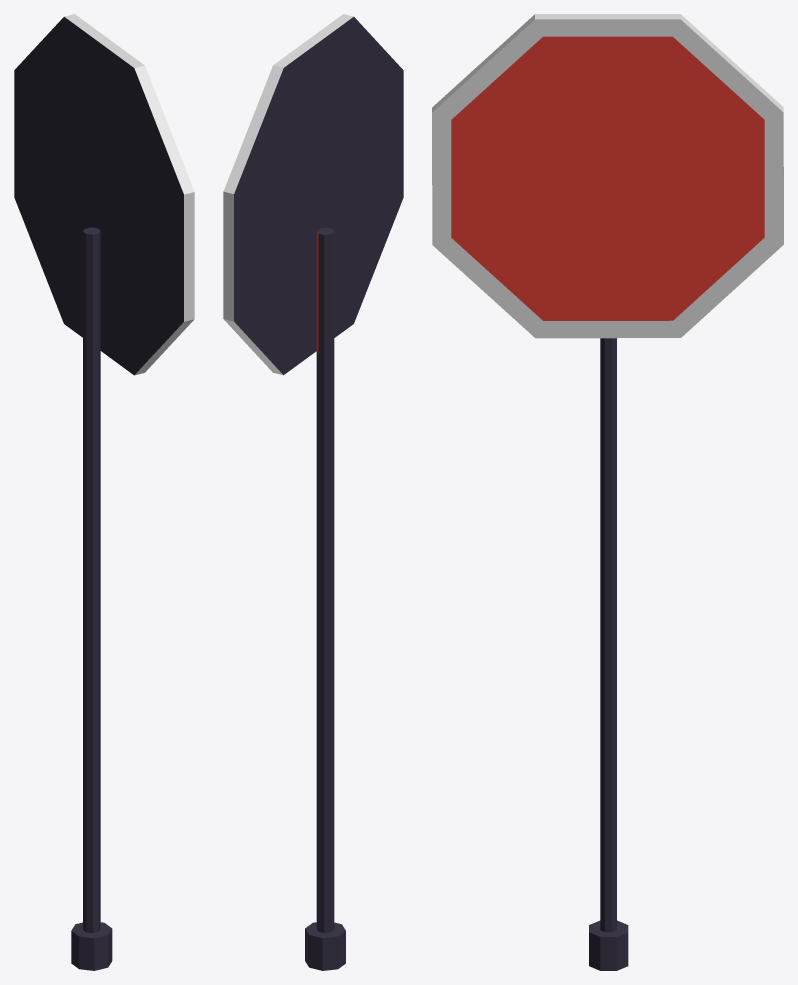
File: StopSign.fbx
3 renders of one model, left to right at view 1: azimuth 30°, elevation 25°; view 2: azimuth 150°, elevation 25°; view 3: azimuth 270°, elevation 25°, orthographic. The views are drawn at different scales.
Parts seen in each view (by area): view 1: Stop; view 2: Stop; view 3: Stop.
Boxes of the visible parts, x1=… form: Stop: x1=14, y1=14, x2=194, y2=970; Stop: x1=223, y1=14, x2=403, y2=970; Stop: x1=432, y1=14, x2=783, y2=970.
Bounding box in the file's own units: 12.61 × 323 × 108.
